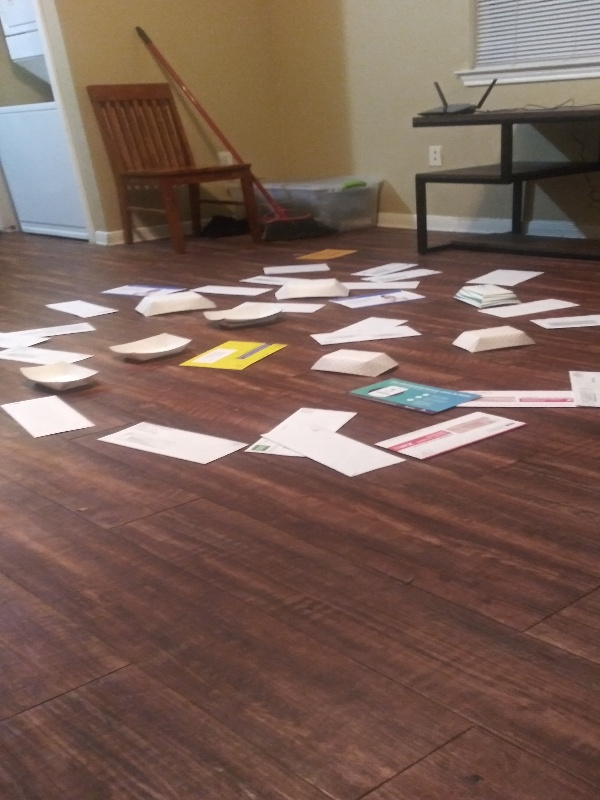plate: (107, 330, 194, 368), (308, 347, 405, 381), (17, 358, 103, 395), (131, 287, 221, 322), (448, 325, 538, 356), (200, 300, 286, 330), (449, 282, 523, 311), (271, 277, 354, 301)
